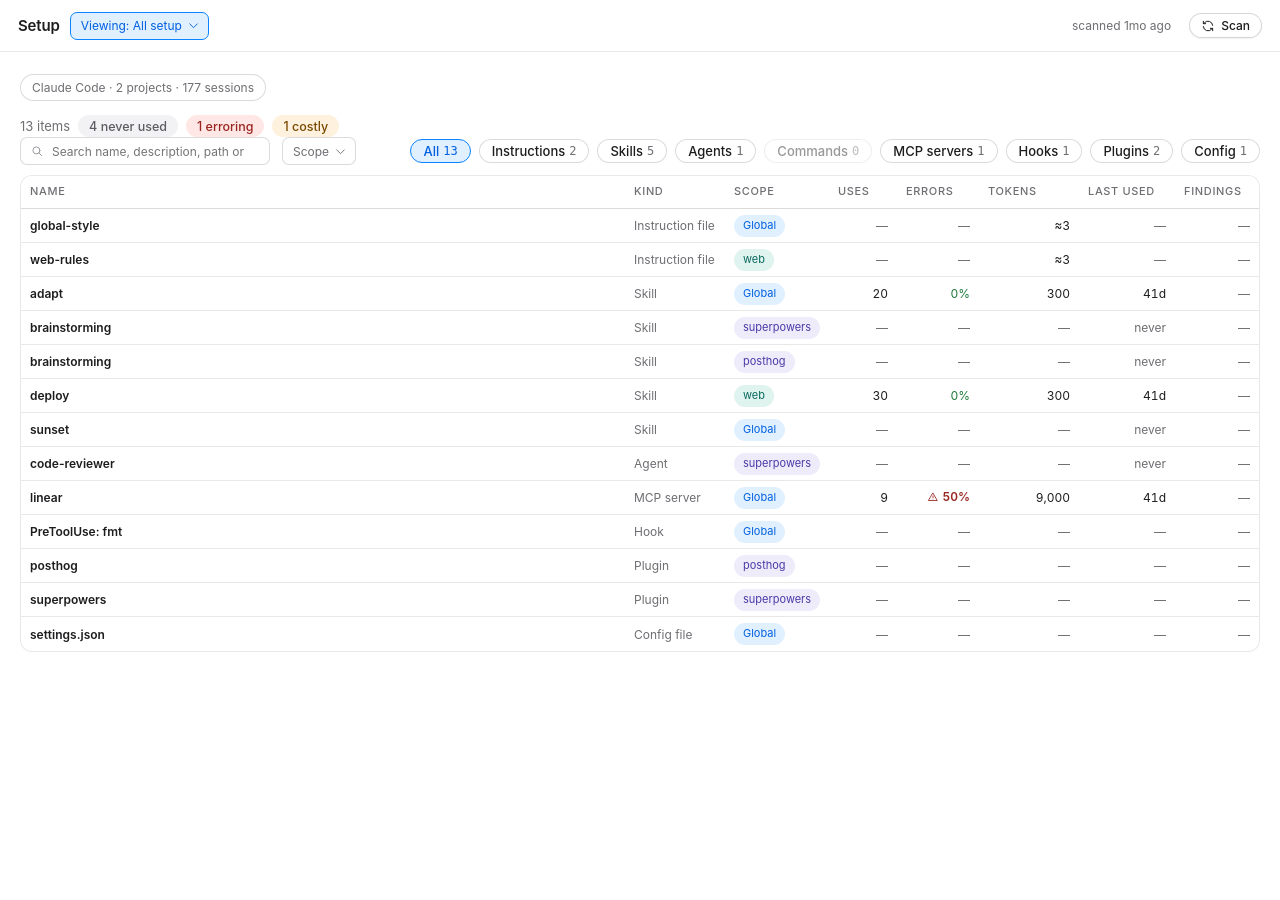
Test: copy sweep (spec §3.3, §13a) — loaded screens › the item viewer on a graded instruction file, Findings tab (IssueActions)
Click the text "global-style" at (66, 226), box [30, 217, 101, 234]
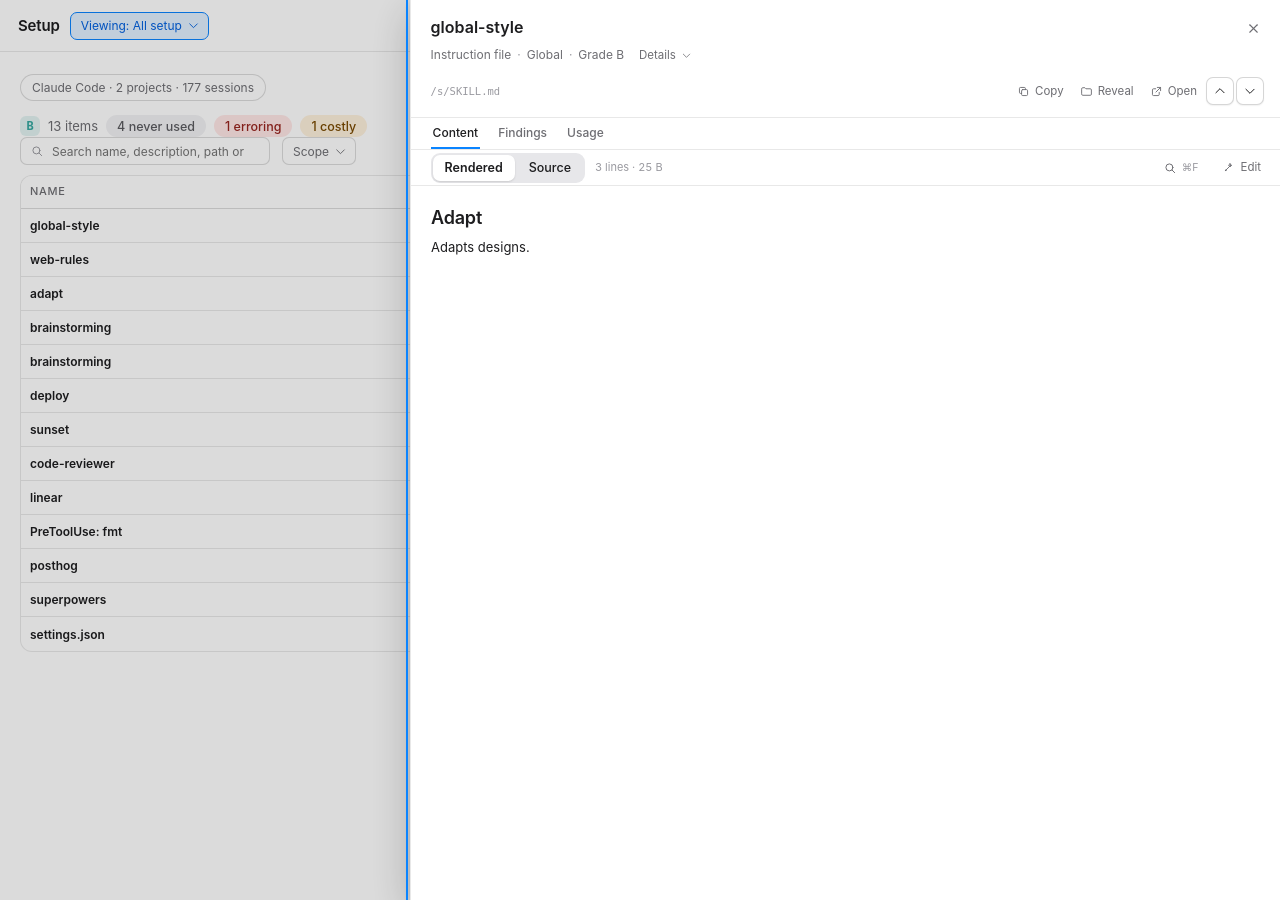
Click the tab "Findings" at (523, 134), box [496, 118, 549, 149]
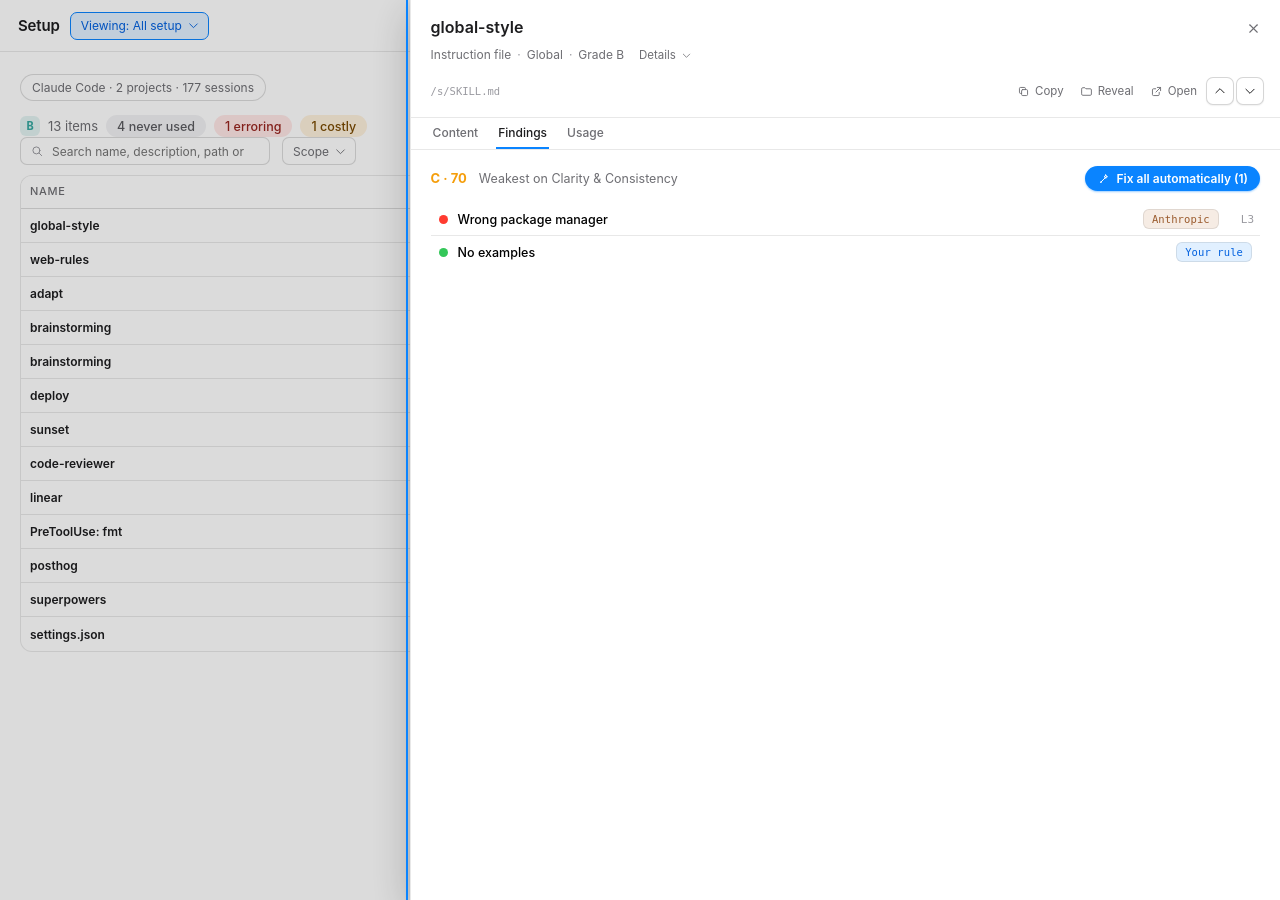
Check: the text "Wrong package manager" is shown, box [458, 212, 608, 227]
